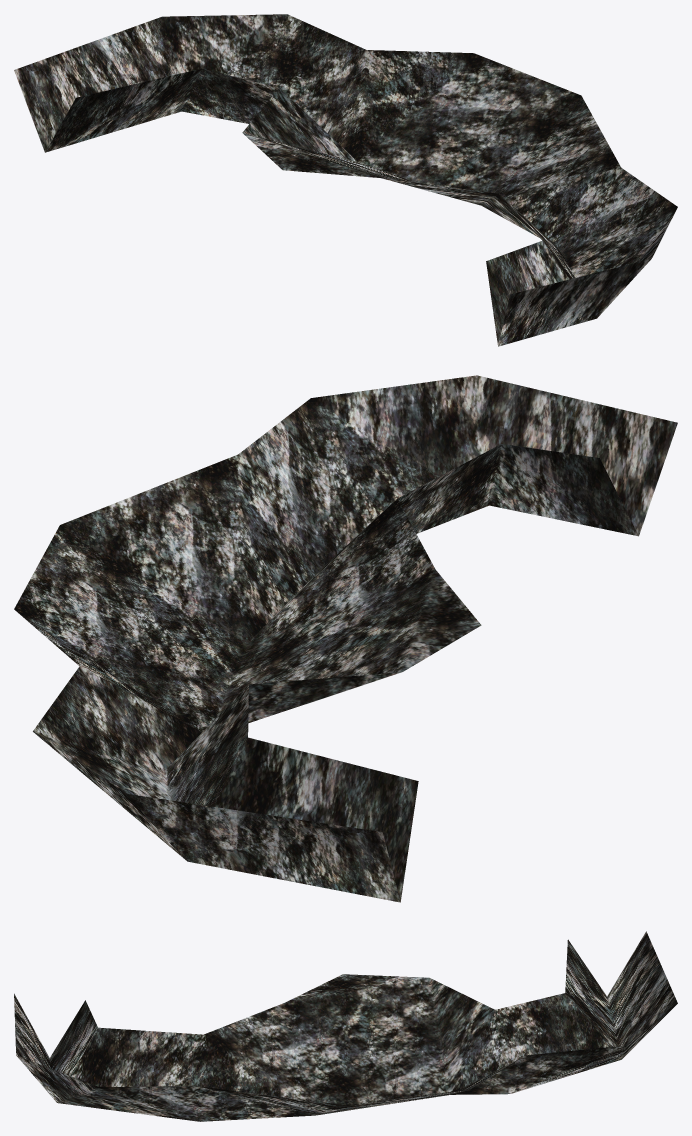
File: OVERHILL_A_01_OH_HOLE_BOTTOM47365.fbx
The picture shows the model from 3 angles, top to bottom: view 1: azimuth 30°, elevation 25°; view 2: azimuth 150°, elevation 25°; view 3: azimuth 270°, elevation 25°; orthographic projection. The views are drawn at different scales.
Visible parts, largest first — view 1: OVERHILL_A_01_OH_HOLE_BOTTOM47365; view 2: OVERHILL_A_01_OH_HOLE_BOTTOM47365; view 3: OVERHILL_A_01_OH_HOLE_BOTTOM47365.
Boxes of the visible parts, box(x1,y1,x2,y2) form: OVERHILL_A_01_OH_HOLE_BOTTOM47365: box(14, 14, 677, 346); OVERHILL_A_01_OH_HOLE_BOTTOM47365: box(14, 375, 677, 902); OVERHILL_A_01_OH_HOLE_BOTTOM47365: box(14, 931, 677, 1121).
Size of the model in its own units: 234531 by 38627 by 377921.
1 material, 1 textured.
